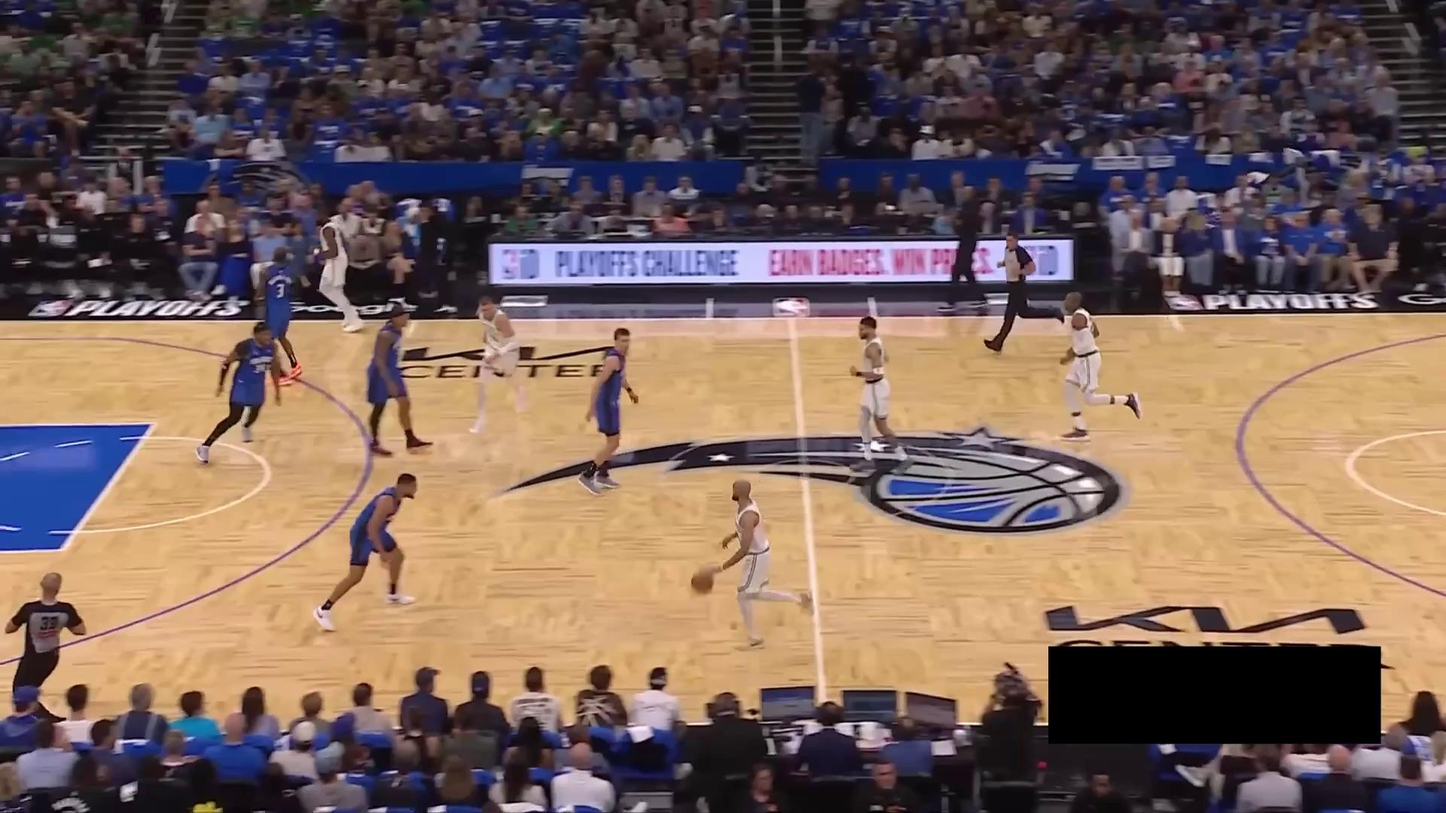ball: (690, 570, 714, 595)
number: (274, 282, 285, 299)
player: (310, 468, 424, 634), (1056, 291, 1152, 446), (358, 296, 439, 462), (196, 317, 283, 468), (574, 314, 645, 496), (848, 314, 912, 464), (462, 288, 525, 434), (251, 249, 312, 394), (304, 205, 373, 333)
player-in-possession: (720, 477, 815, 654)
referee: (5, 565, 94, 720), (983, 230, 1069, 352)
